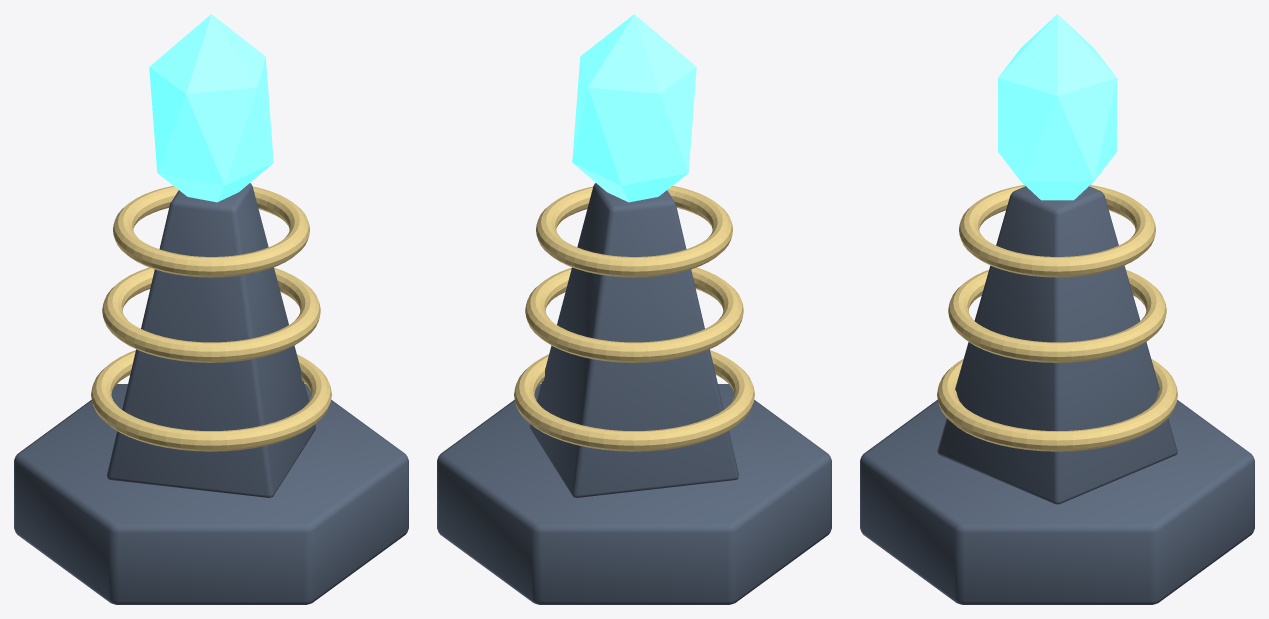
File: turret_prism.glb
3 renders of one model, left to right at view 1: azimuth 30°, elevation 25°; view 2: azimuth 150°, elevation 25°; view 3: azimuth 270°, elevation 25°, orthographic.
Visible parts, largest first — view 1: Cylinder, Cone, Icosphere, Torus, Torus.001, Torus.002; view 2: Cylinder, Cone, Icosphere, Torus, Torus.001, Torus.002; view 3: Cylinder, Cone, Icosphere, Torus.002, Torus.001, Torus.
Part boxes in pixels (x1,y1,x2,y2): Cylinder: (14,384,408,604); Cone: (107,183,315,497); Icosphere: (149,14,273,202); Torus: (91,350,331,451); Torus.001: (102,267,320,362); Torus.002: (113,186,309,277); Cylinder: (437,384,831,604); Cone: (530,183,738,497); Icosphere: (572,14,696,202); Torus: (514,350,754,451); Torus.001: (525,267,743,362); Torus.002: (536,186,732,277); Cylinder: (860,400,1254,604); Cone: (937,186,1177,504); Icosphere: (998,14,1116,200); Torus.002: (959,185,1155,277); Torus.001: (948,270,1166,362); Torus: (937,359,1177,451).
Bounding box in the file's own units: 1 × 1.67 × 1.15.
